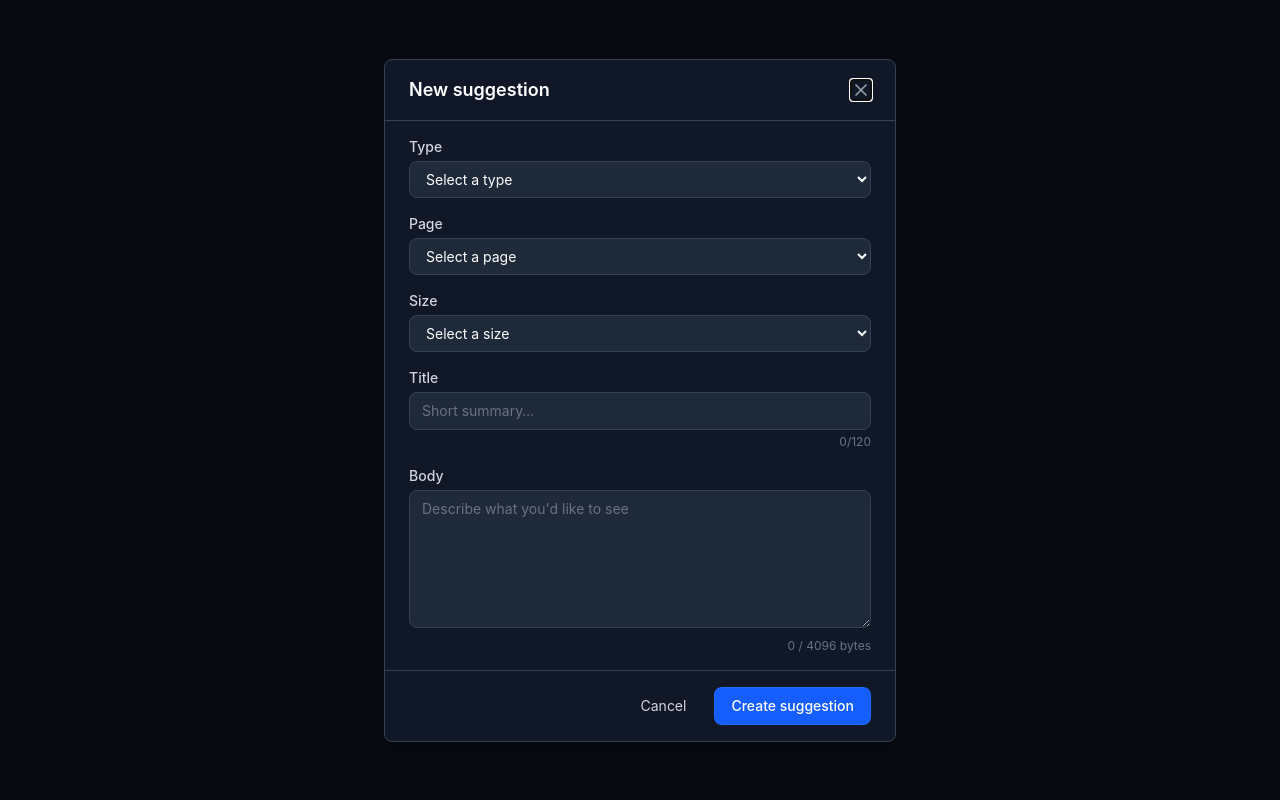
Test: NewSuggestionForm › forces page to __new_page__ when type=new_page is selected
The image size is (1280, 800).
Select "New page" in the dropdown labelled "Type" at x=640, y=179, box [409,160,871,198]
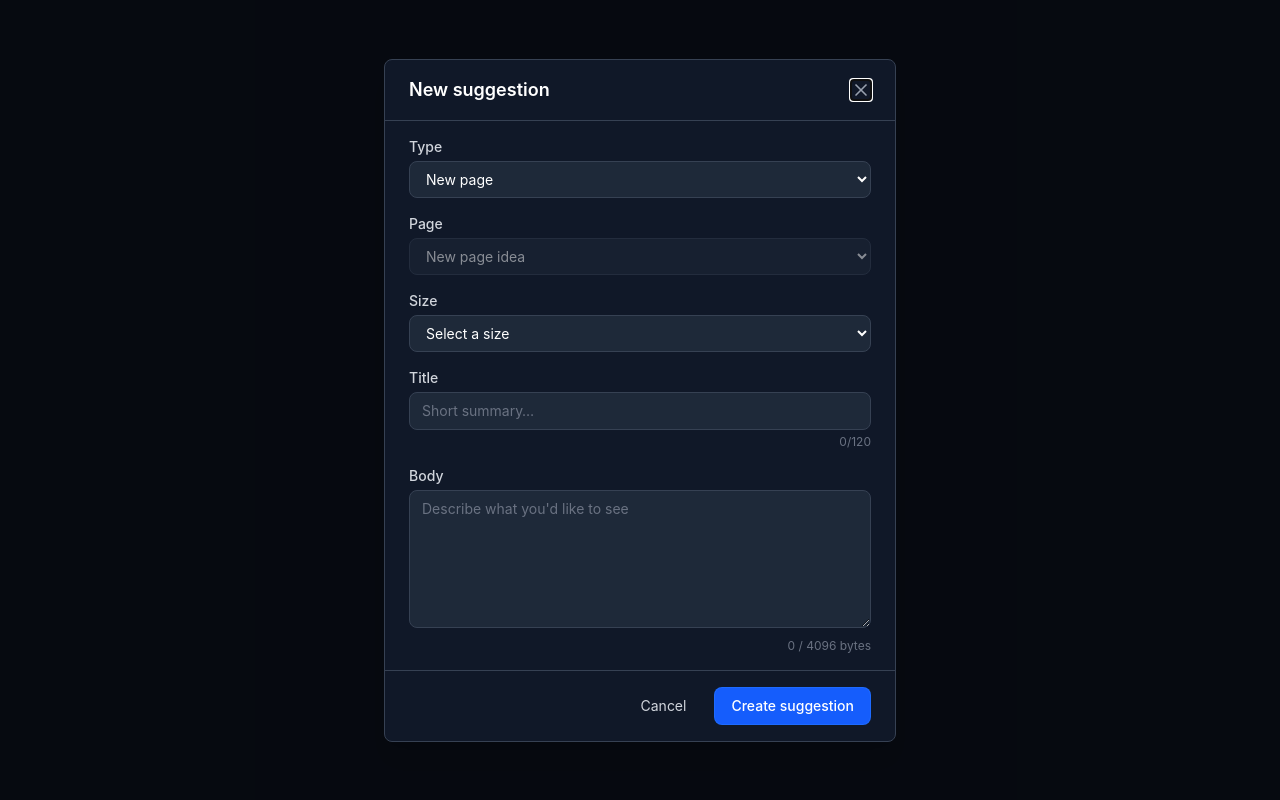
Now the dropdown labelled "Page" shows "New page idea", box [409,238,871,274]
Now the dropdown labelled "Page" is disabled, box [409,238,871,274]
